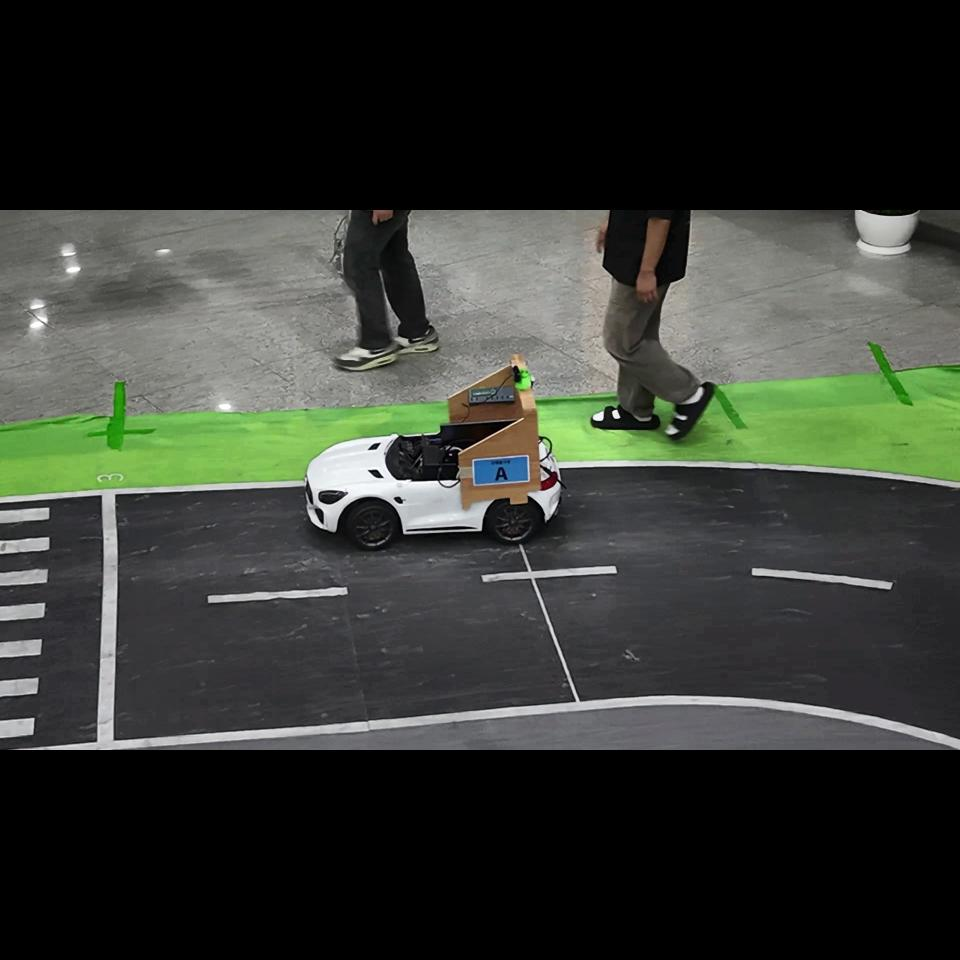broken_line: (752, 567, 892, 590), (207, 587, 348, 604), (481, 566, 618, 582)
crosswalk: (0, 507, 50, 738)
